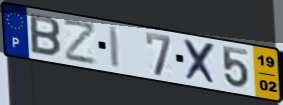5: (220, 44, 251, 90)
7: (144, 31, 174, 78)
B: (28, 12, 63, 59)
I: (108, 25, 122, 71)
X: (182, 37, 219, 88)
Z: (62, 19, 98, 67)
